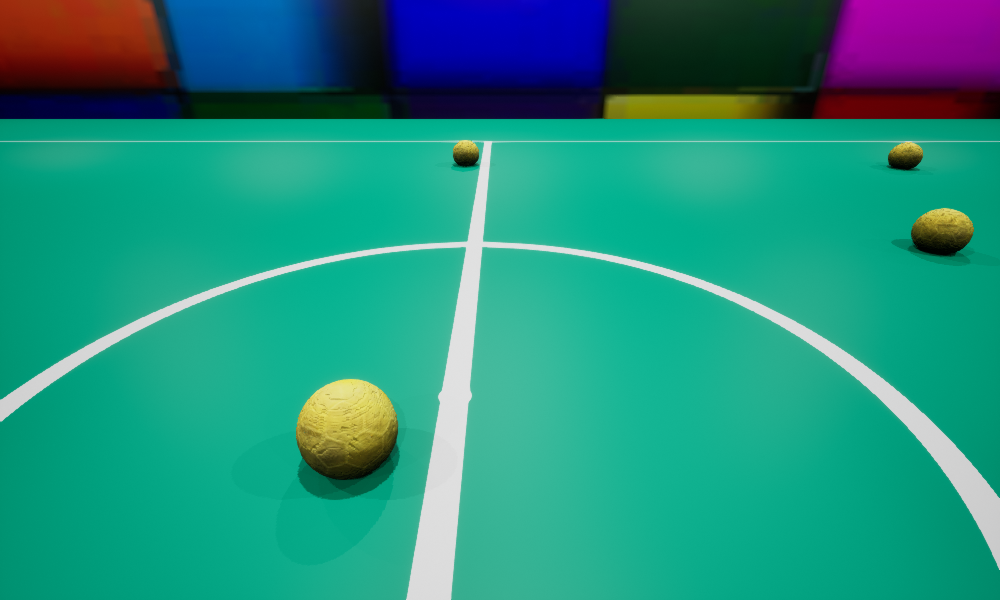b: (296, 379, 397, 479), (911, 208, 973, 253), (888, 142, 922, 168), (453, 140, 478, 165)
